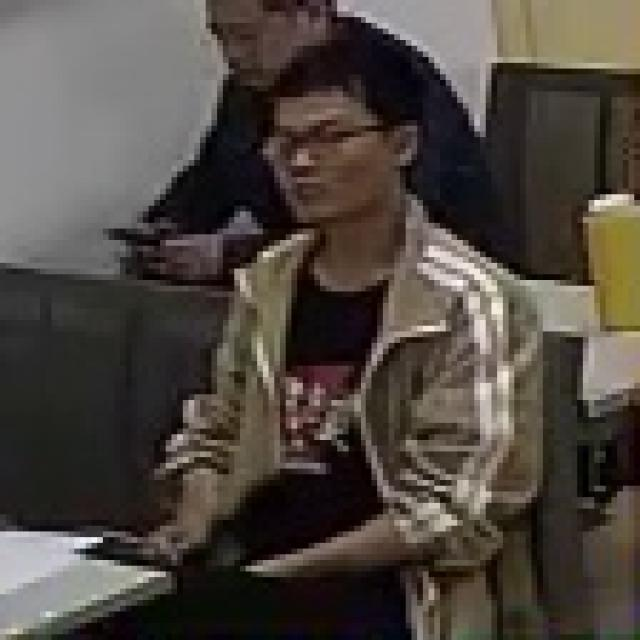listen: (158, 45, 548, 640)
phone: (97, 0, 515, 308)
